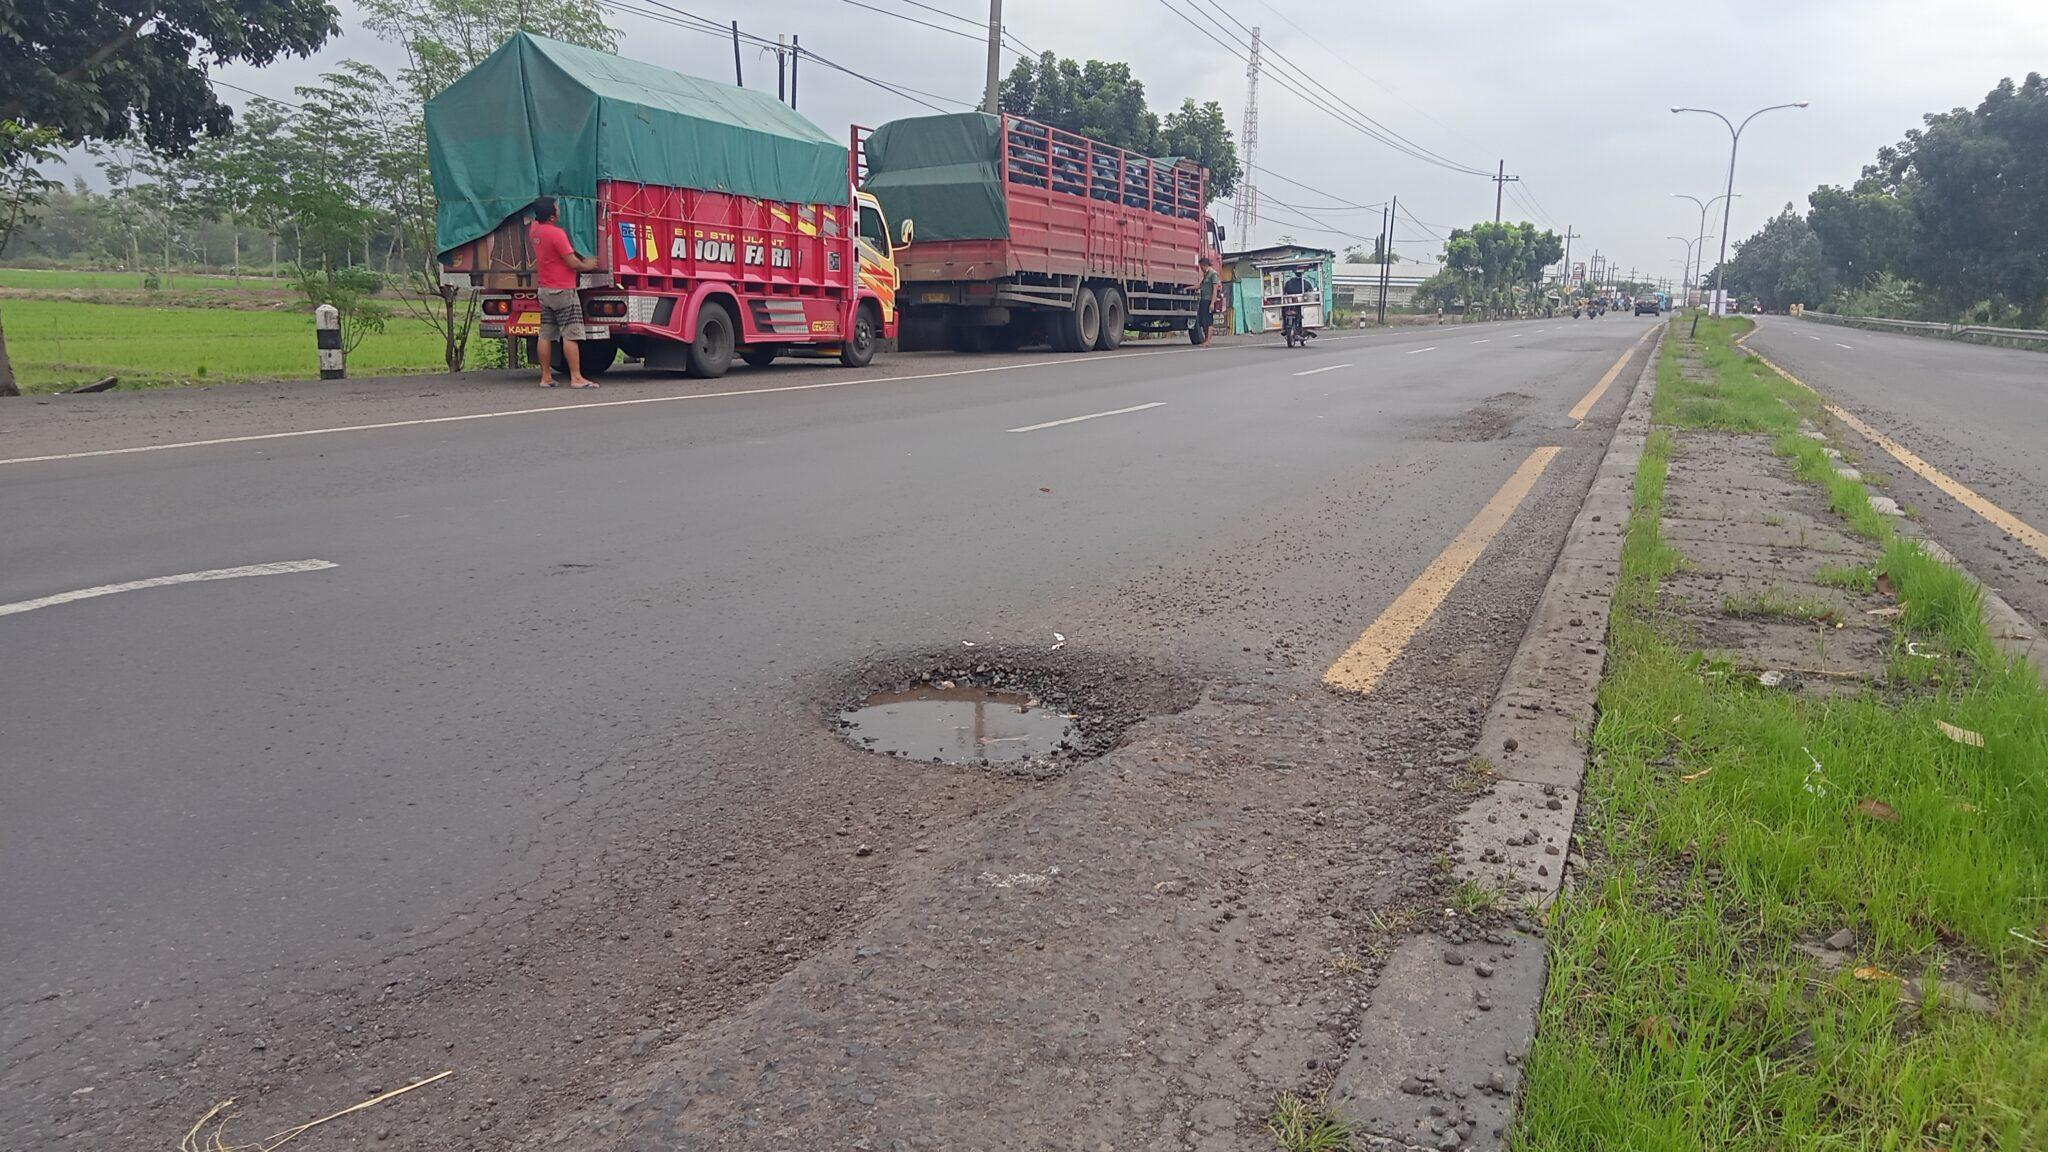Pothole: (774, 581, 1138, 829)
